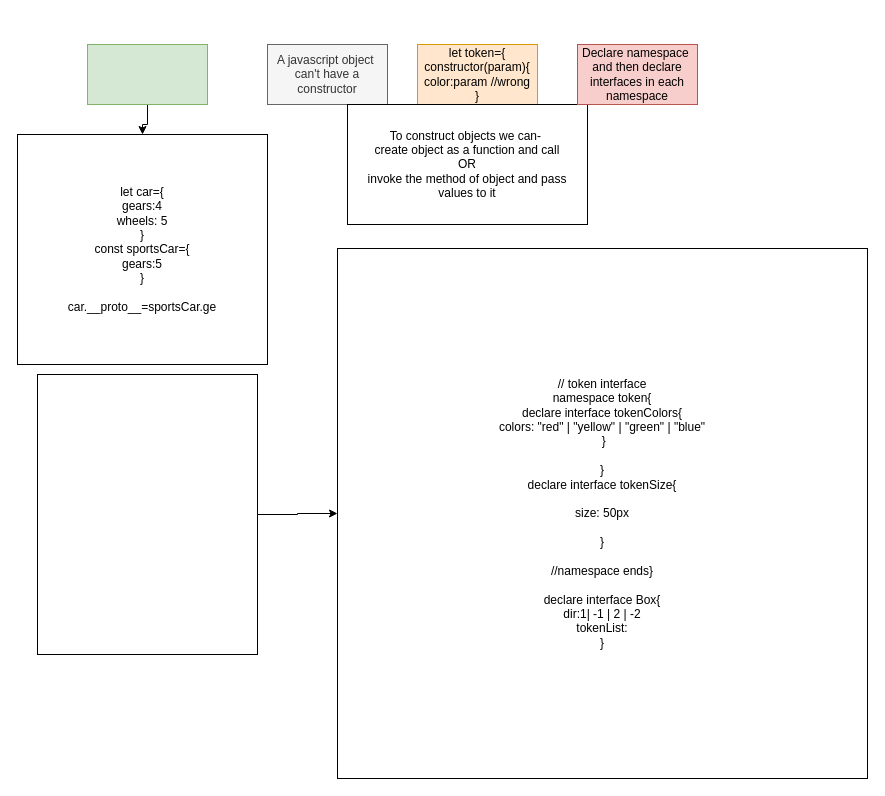
The diagram is 885 pixels wide and 796 high, and some of its shapes have lost their labels. The shapes that lost their labels are listed below. From the top down, each one's centre as x and y in pixels, then its label:
(147,74): Prototype is used to for object inheritance
(147,514): First declare interfaces and types then logically link them
